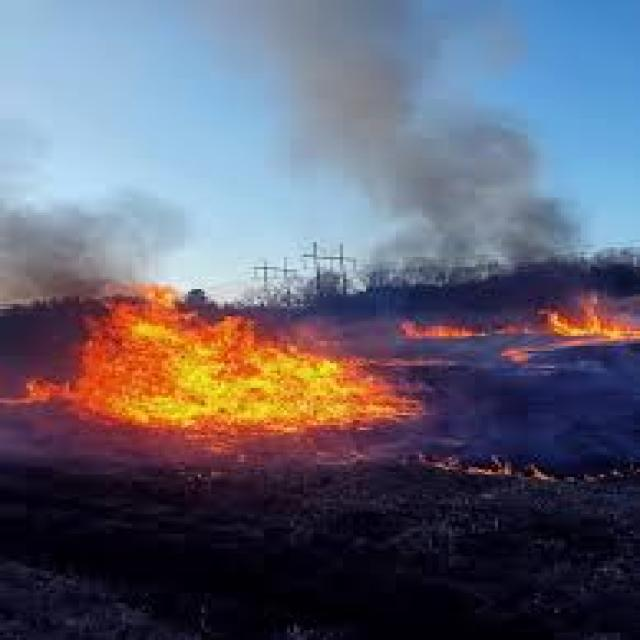Fire: (20, 304, 412, 430), (544, 294, 630, 346), (396, 314, 485, 338)
Smoke: (264, 7, 607, 282), (10, 94, 211, 306)
